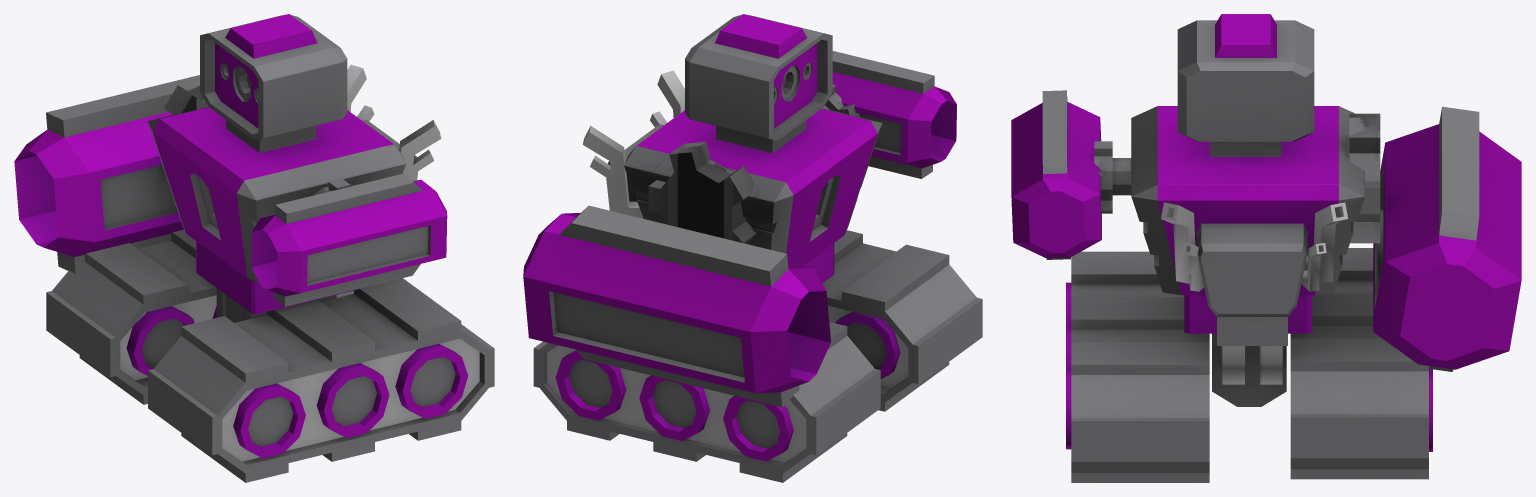
Rendered from Enemy2_Die4.obj.
3 views of the same model, side by side, from view 1: azimuth 30°, elevation 25°; view 2: azimuth 150°, elevation 25°; view 3: azimuth 270°, elevation 25° (orthographic). The views are drawn at different scales.
Parts seen in each view (by area): view 1: Object006, Object013, Object011, Object014, Object012, Object010, Object009; view 2: Object006, Object011, Object013, Object012, Object014, Object009, Object010; view 3: Object006, Object011, Object013, Object012, Object010, Object014, Object009, Object008.
Boxes of the visible parts, x1,y1,x2,y2 form: Object006: (46, 229, 494, 482); Object013: (148, 107, 405, 322); Object011: (14, 75, 199, 274); Object014: (251, 173, 447, 306); Object012: (200, 14, 347, 152); Object010: (336, 64, 441, 297); Object009: (164, 85, 208, 114); Object006: (533, 230, 982, 482); Object011: (523, 205, 830, 407); Object013: (624, 108, 882, 283); Object012: (685, 14, 832, 153); Object014: (832, 51, 956, 178); Object009: (648, 141, 756, 244); Object010: (582, 70, 684, 218); Object006: (1066, 248, 1432, 482); Object011: (1373, 106, 1521, 371); Object013: (1131, 106, 1364, 406); Object012: (1177, 14, 1314, 156); Object010: (1161, 202, 1348, 384); Object014: (1011, 90, 1101, 259); Object009: (1349, 113, 1380, 243); Object008: (1094, 141, 1131, 213).
Bounding box in the file's own units: 87.45 × 108 × 126.
